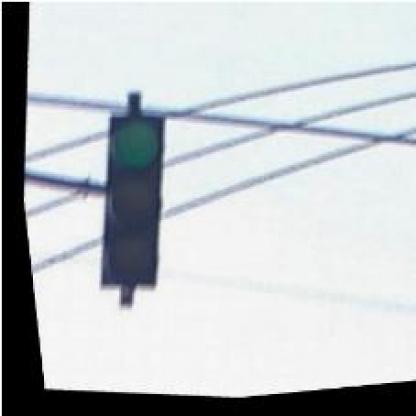green: (78, 110, 175, 293)
